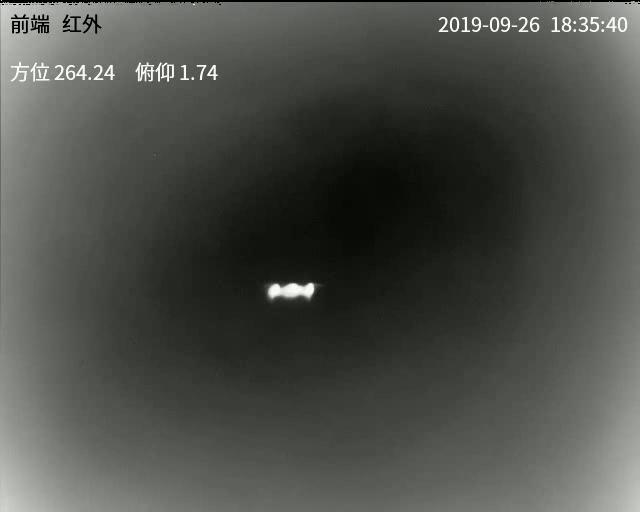DRONE: (265, 282, 315, 301)
